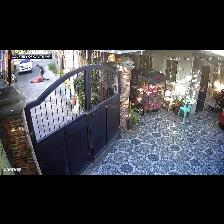person: (37, 65, 44, 81), (43, 78, 48, 80)
